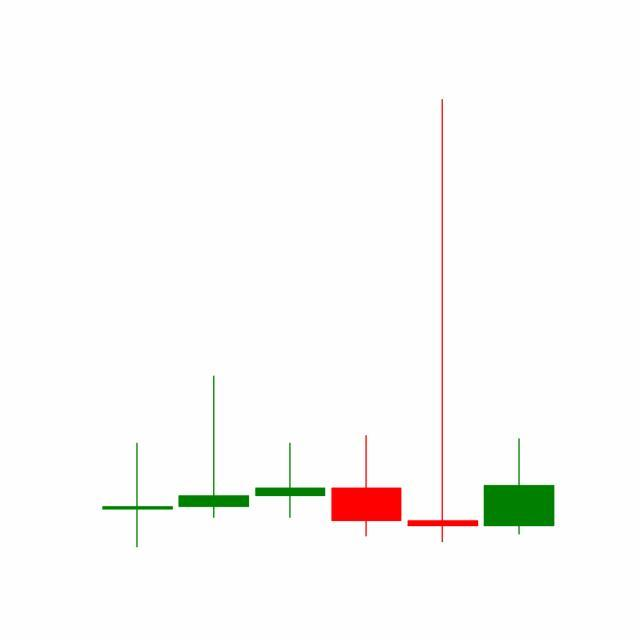Spinning Top: (404, 95, 482, 548)
